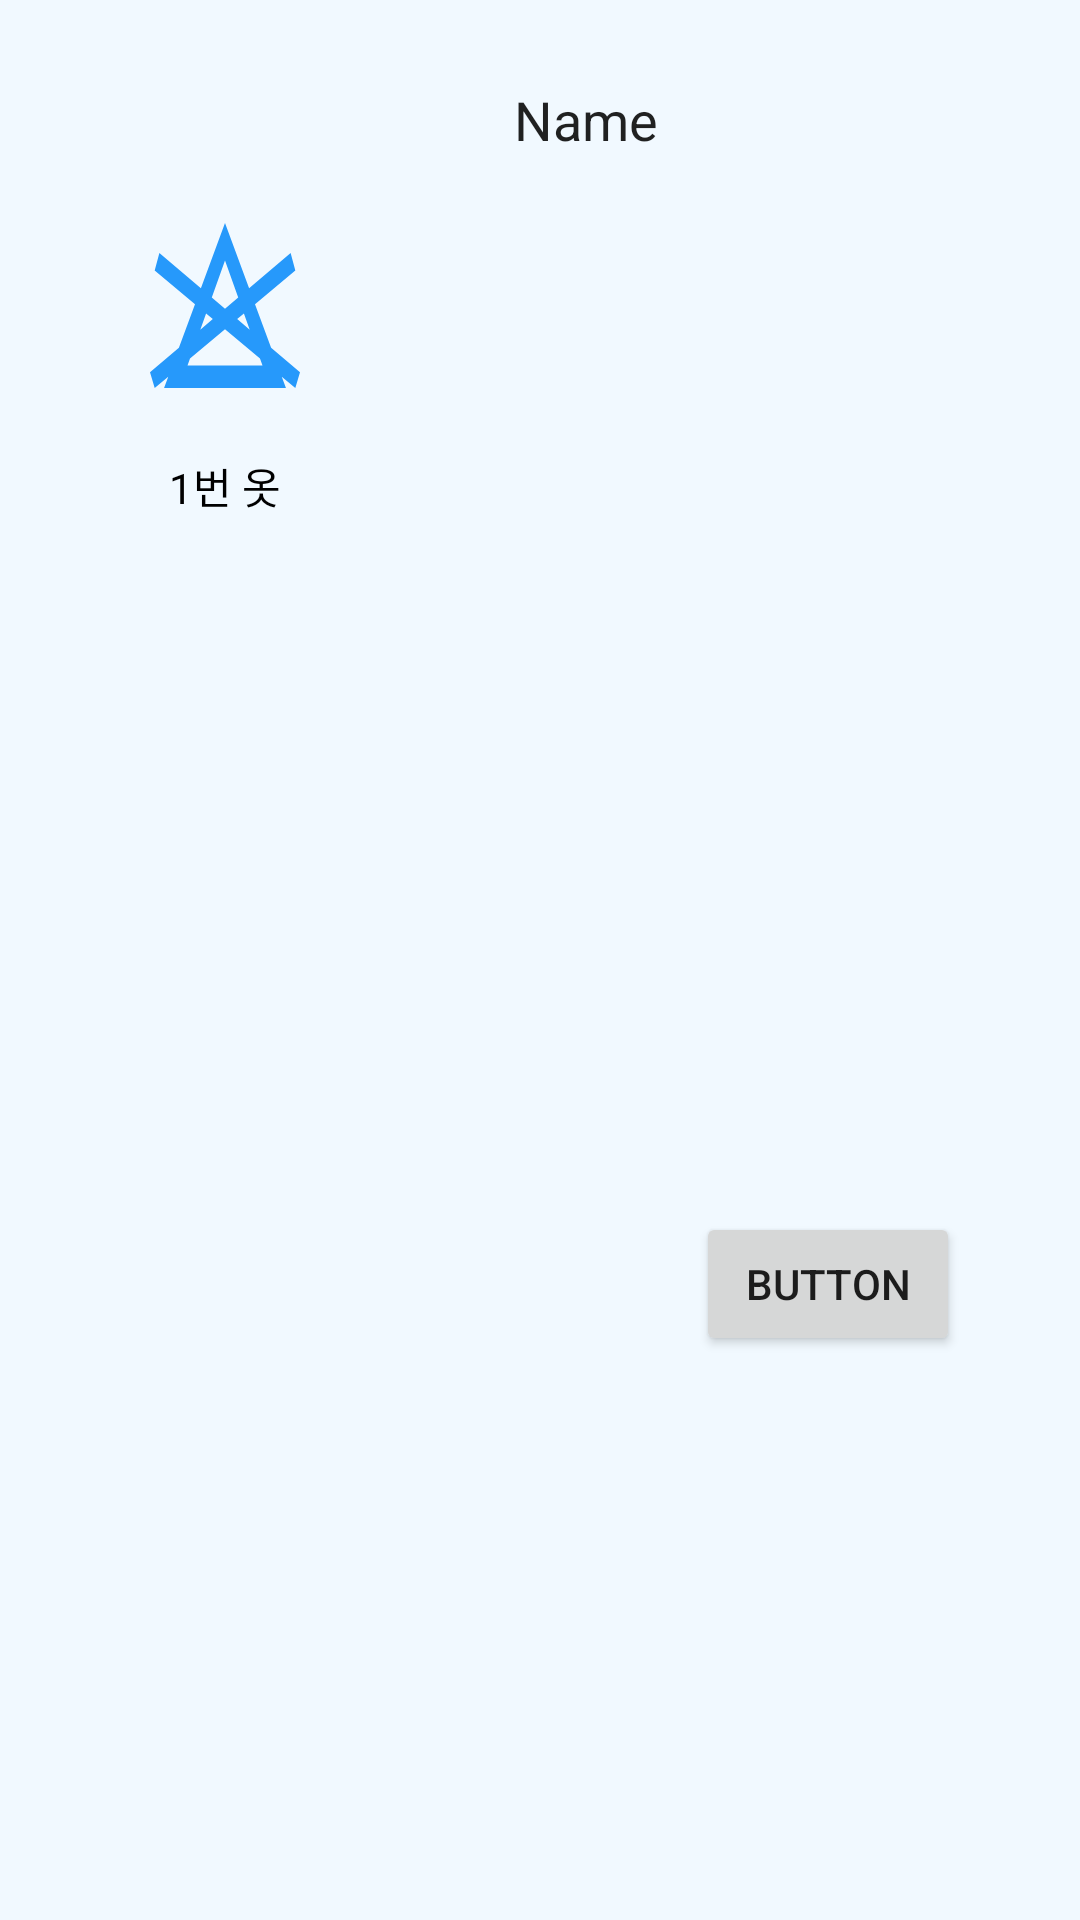

Named icons in this screenshot (1080 × 1920) and their centers, point (x, y):
bleaching not allowed: point (225, 305)
